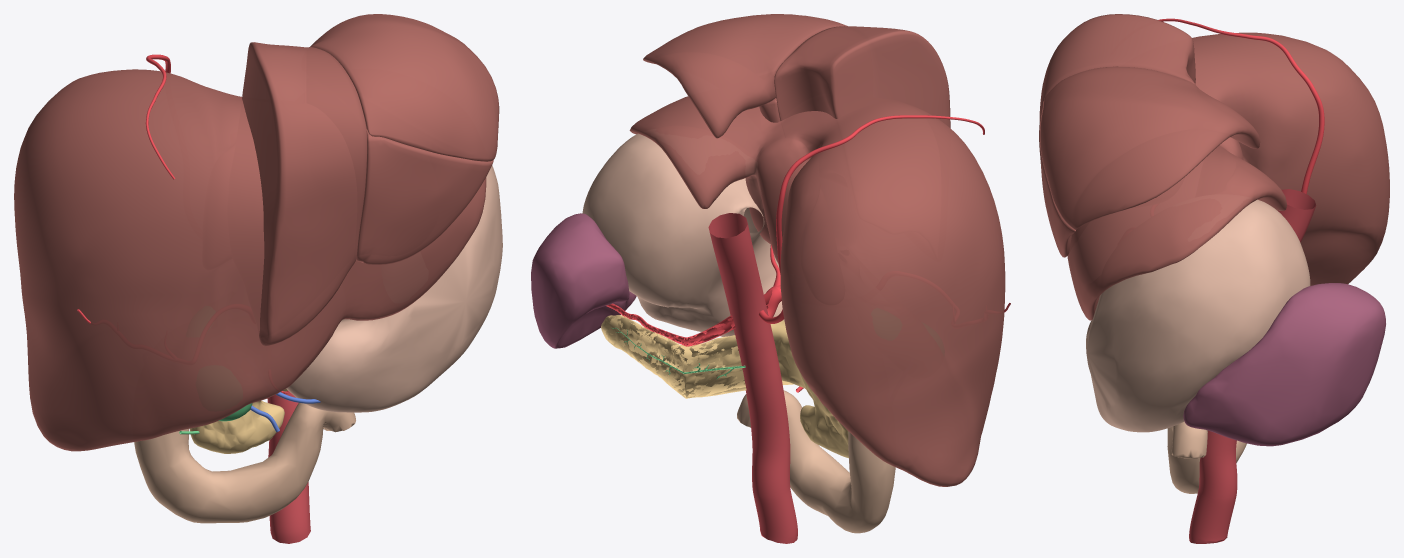
The model's file is celiac_lecture.glb.
3 views of the same model, side by side, from view 1: azimuth 30°, elevation 25°; view 2: azimuth 150°, elevation 25°; view 3: azimuth 270°, elevation 25° (orthographic). The views are drawn at different scales.
Visible parts, largest first — view 1: Liver (×2), Left medial segment of liver (IV), Stomach, Left posterior lateral segment of liver (II), Duodenum, Left anterior lateral segment of liver (III), Pancreas, Abdominal aorta, Inferior phrenic artery; view 2: Liver (×2), Stomach, Left medial segment of liver (IV), Abdominal aorta, Left posterior lateral segment of liver (II), Spleen, Pancreas, Duodenum, Inferior phrenic artery, Splenic artery; view 3: Liver (×2), Stomach, Left posterior lateral segment of liver (II), Spleen, Left medial segment of liver (IV), Abdominal aorta, Duodenum, Inferior phrenic artery, Left anterior lateral segment of liver (III).
Part boxes in pixels (x1,y1,x2,y2): Liver (×2): (14, 69, 486, 451); Left medial segment of liver (IV): (242, 42, 367, 346); Stomach: (286, 165, 502, 412); Left posterior lateral segment of liver (II): (310, 14, 499, 161); Duodenum: (134, 402, 355, 523); Left anterior lateral segment of liver (III): (356, 129, 493, 264); Pancreas: (190, 389, 287, 453); Abdominal aorta: (267, 390, 310, 543); Inferior phrenic artery: (145, 54, 175, 179); Liver (×2): (630, 96, 1005, 486); Stomach: (582, 133, 784, 336); Left medial segment of liver (IV): (774, 26, 950, 127); Abdominal aorta: (708, 213, 797, 543); Left posterior lateral segment of liver (II): (643, 14, 847, 138); Spleen: (531, 213, 636, 348); Pancreas: (601, 315, 848, 458); Duodenum: (737, 390, 895, 533); Inferior phrenic artery: (759, 115, 984, 323); Splenic artery: (606, 290, 772, 346); Liver (×2): (1067, 32, 1389, 320); Stomach: (1086, 199, 1310, 432); Left posterior lateral segment of liver (II): (1040, 66, 1260, 229); Spleen: (1183, 283, 1385, 446); Left medial segment of liver (IV): (1039, 14, 1195, 118); Abdominal aorta: (1189, 189, 1316, 543); Duodenum: (1167, 421, 1246, 493); Inferior phrenic artery: (1158, 18, 1324, 193); Left anterior lateral segment of liver (III): (1039, 101, 1075, 257).
Size of the model in its own units: 0.2286 by 0.2561 by 0.1645.
